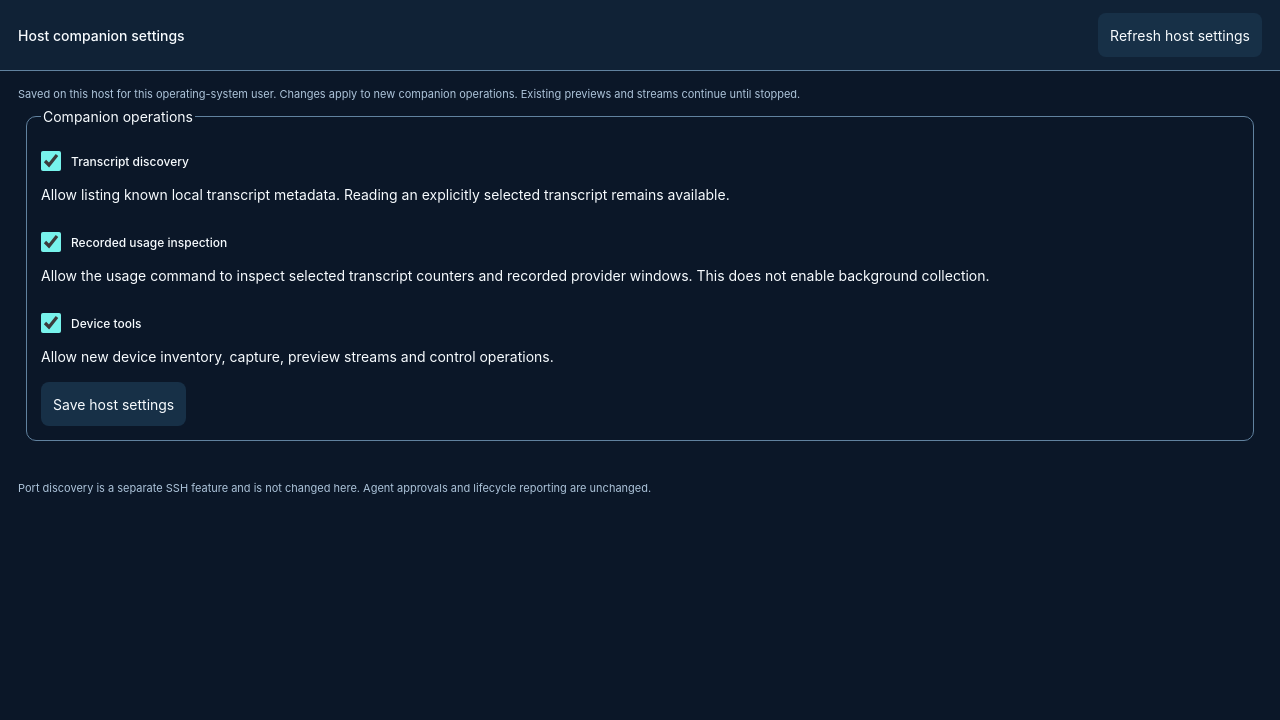
Test case: saves actual host settings with the fetched revision and explicit booleans
The image size is (1280, 720).
Click the checkbox labelled "Recorded usage inspection" at (51, 242), box [41,232,61,252]
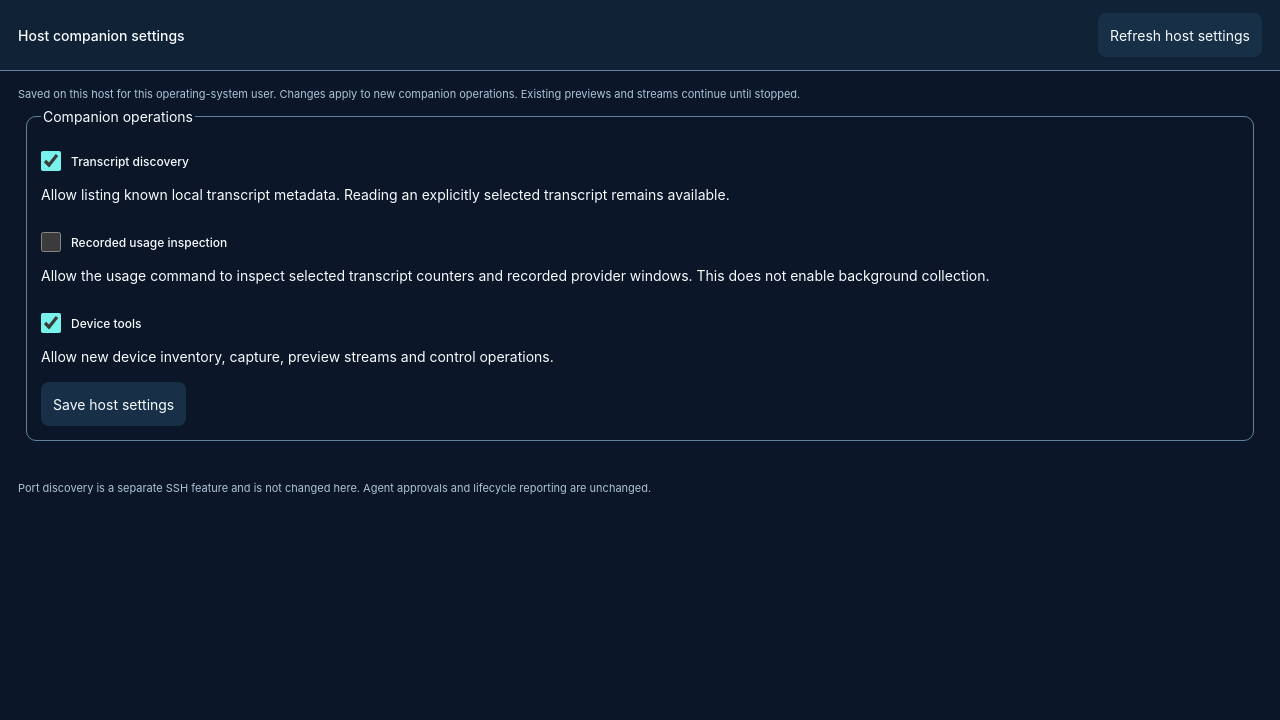
Click the button "Save host settings" at (114, 404), box [41,382,186,426]
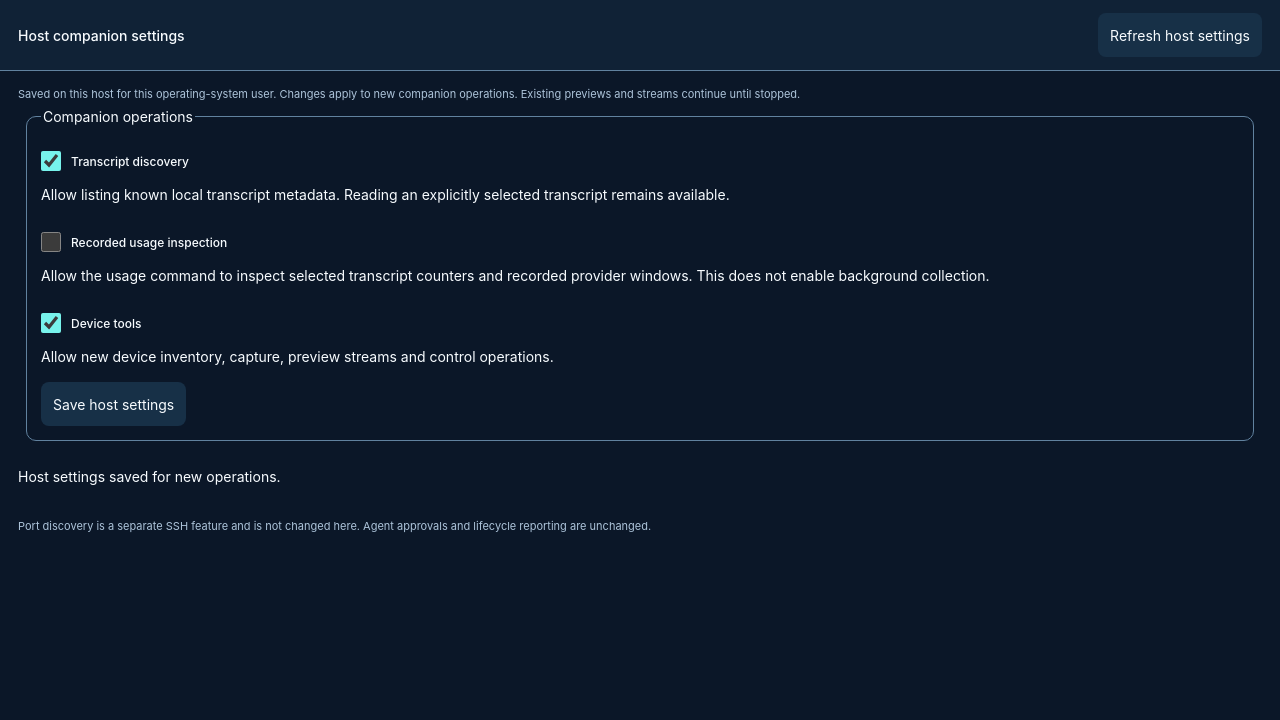
Check: the text "Existing previews and streams continue until stopped" is shown, box [18,87,800,101]
Check: the text "Host settings saved for new operations." is shown, box [18,468,281,485]
